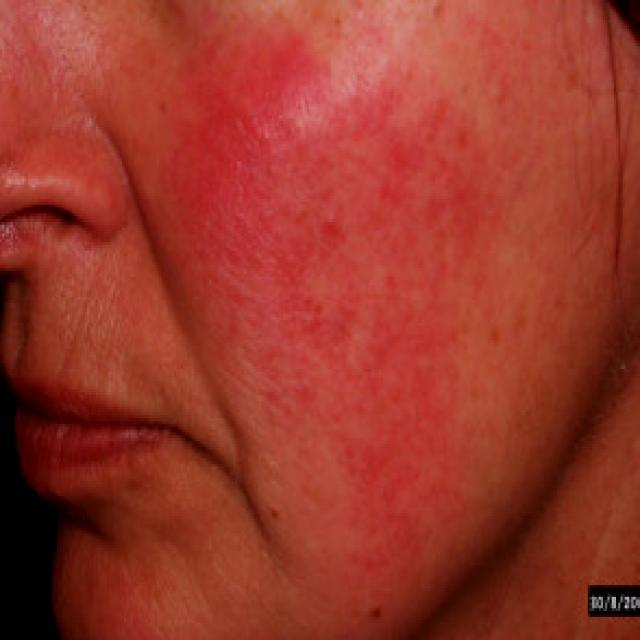Rosacea: (177, 30, 501, 590)
